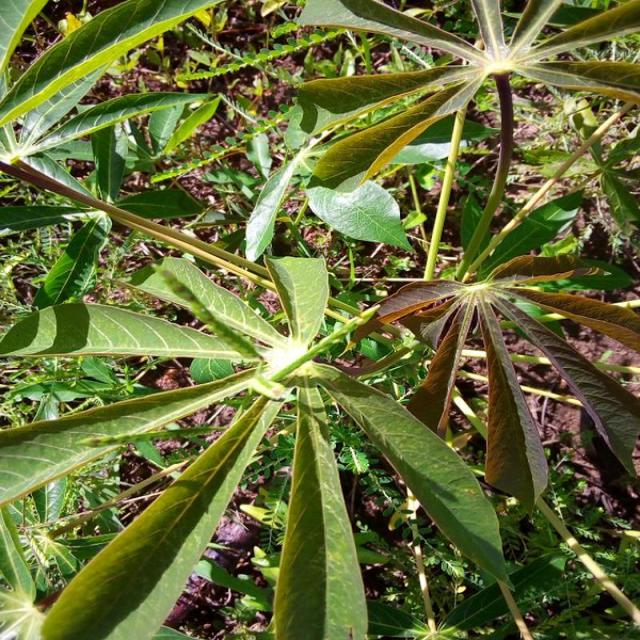cassava leaf: (38, 385, 284, 638), (315, 360, 511, 589), (271, 382, 368, 638)
